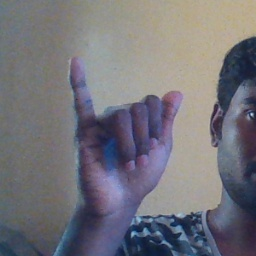J: (58, 49, 188, 203)
